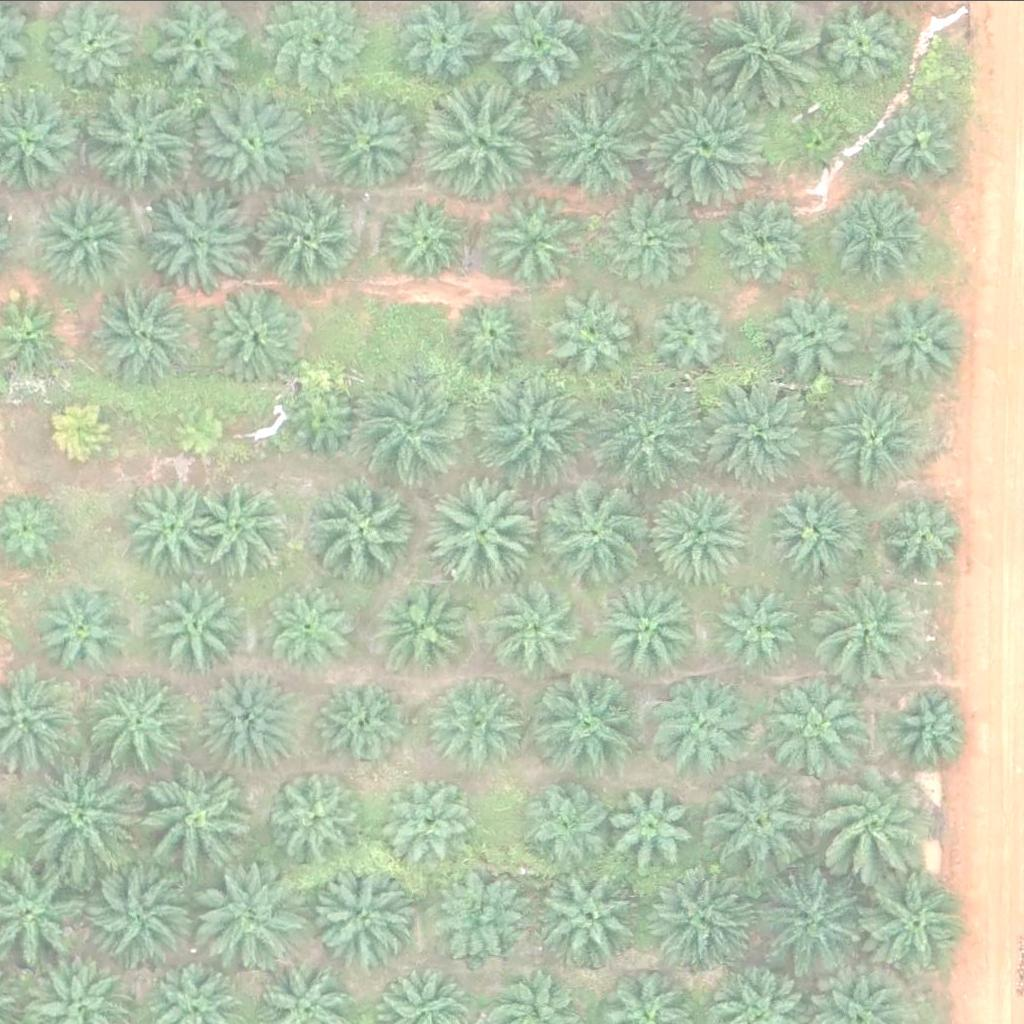Kelapa_Sawit: (816, 755, 942, 880), (199, 83, 313, 196), (83, 276, 197, 389), (476, 369, 590, 482), (304, 472, 418, 585), (81, 80, 194, 193), (418, 83, 531, 196), (149, 178, 262, 291), (432, 479, 545, 592), (84, 857, 197, 970), (653, 863, 766, 976), (754, 863, 867, 976), (861, 867, 974, 980), (31, 760, 144, 873), (817, 382, 931, 494), (201, 859, 315, 971), (539, 85, 652, 197), (650, 88, 763, 200), (355, 367, 468, 479), (595, 379, 708, 491), (707, 371, 820, 483), (539, 477, 652, 589), (813, 567, 926, 679), (140, 765, 253, 877), (705, 768, 818, 880), (319, 90, 420, 190), (36, 190, 137, 290), (259, 177, 360, 277), (830, 183, 931, 283), (200, 276, 301, 376), (874, 289, 975, 389), (120, 476, 221, 576), (765, 478, 866, 578), (33, 582, 134, 682), (149, 575, 250, 675), (373, 575, 474, 675), (490, 573, 591, 673), (601, 577, 702, 677), (89, 669, 190, 769), (422, 672, 523, 772), (541, 673, 642, 773), (650, 676, 751, 776), (262, 764, 363, 864), (317, 864, 418, 964), (546, 860, 647, 960), (648, 479, 748, 579), (204, 673, 304, 773), (773, 671, 873, 771), (429, 868, 529, 968), (271, 584, 360, 672), (605, 194, 693, 282), (556, 285, 644, 373), (650, 289, 738, 377), (285, 371, 373, 459), (200, 479, 288, 567), (888, 489, 976, 577), (315, 679, 403, 767), (871, 98, 960, 185), (386, 194, 475, 281), (716, 578, 805, 665), (501, 190, 589, 277), (721, 197, 809, 284), (453, 291, 541, 378), (767, 290, 855, 377), (888, 683, 976, 770), (383, 779, 471, 866), (524, 779, 612, 866), (612, 782, 700, 869), (42, 390, 118, 465), (789, 106, 852, 169), (171, 398, 234, 460)
